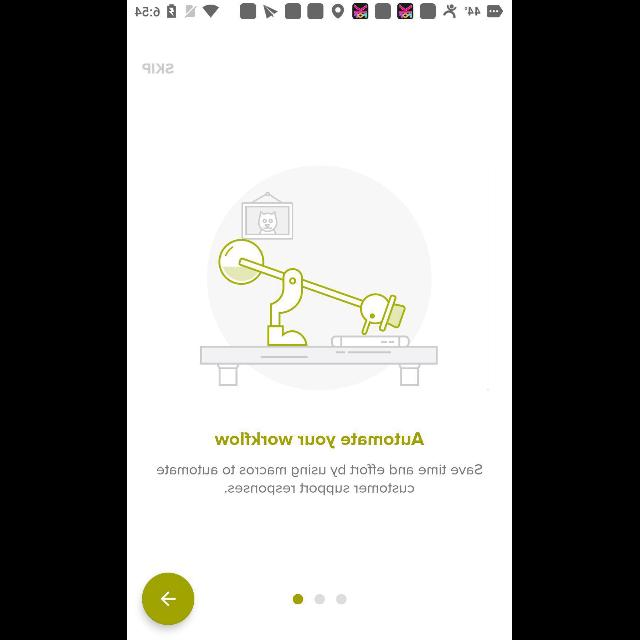button: (142, 572, 195, 626)
image: (200, 165, 438, 391)
pageindicator: (293, 594, 347, 604)
text: (157, 464, 483, 496), (215, 432, 425, 448), (143, 64, 175, 74)
uppertaskbar: (128, 1, 512, 23)
